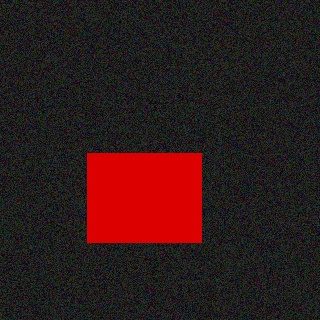red_barrel: (88, 153, 202, 242)
